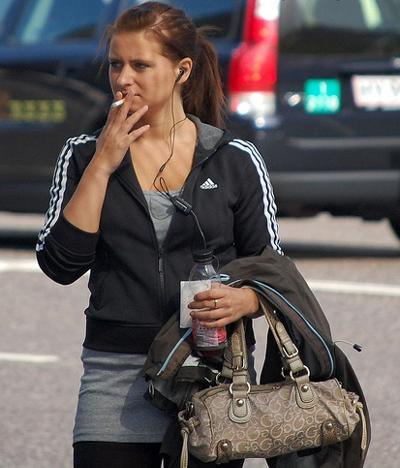person: (35, 3, 286, 468)
